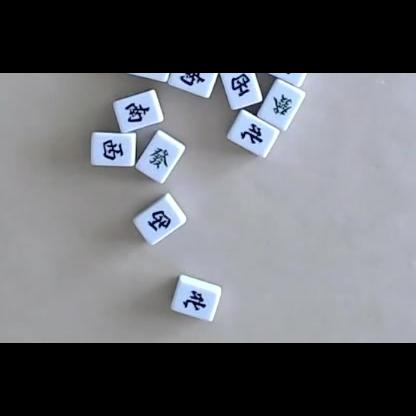2z: (125, 102, 150, 122), (179, 73, 204, 86)
3z: (147, 210, 171, 232), (231, 73, 251, 97), (102, 139, 124, 160)
4z: (183, 289, 207, 312), (240, 123, 264, 145), (276, 73, 300, 75)
6z: (148, 146, 169, 170), (272, 93, 293, 116)
